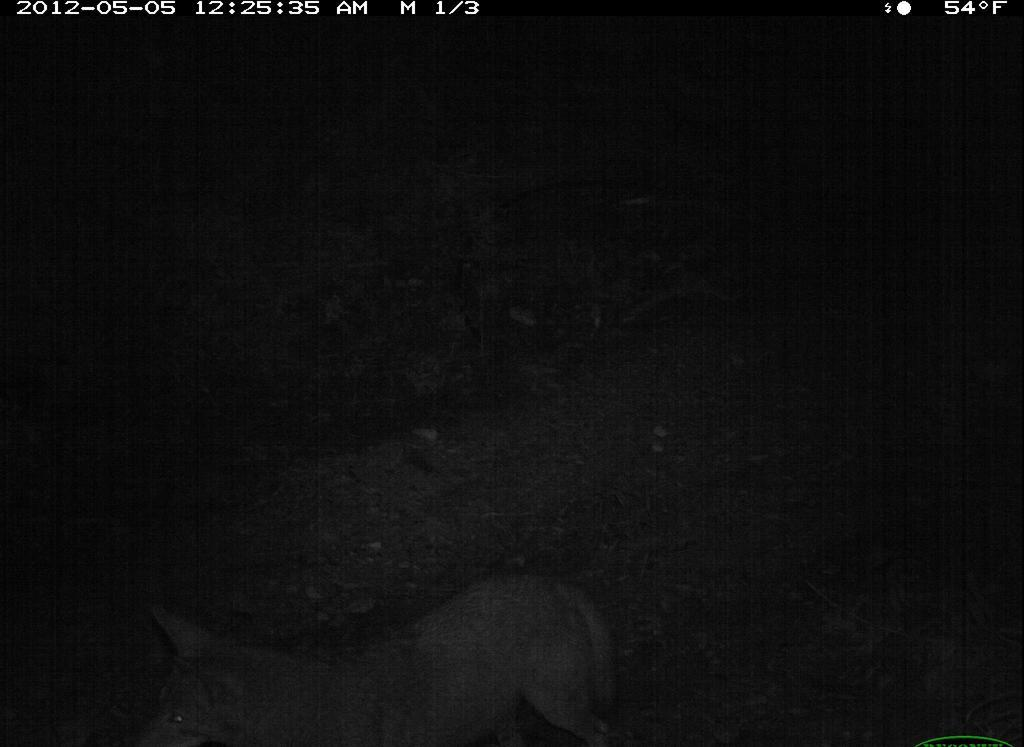coyote: (113, 560, 635, 747)
